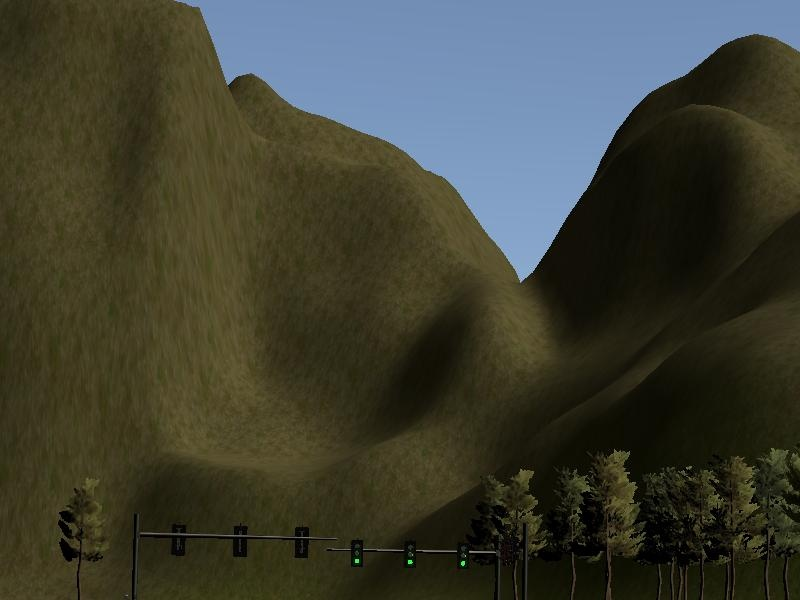green: (346, 538, 366, 568), (400, 538, 418, 571), (454, 538, 469, 571)
